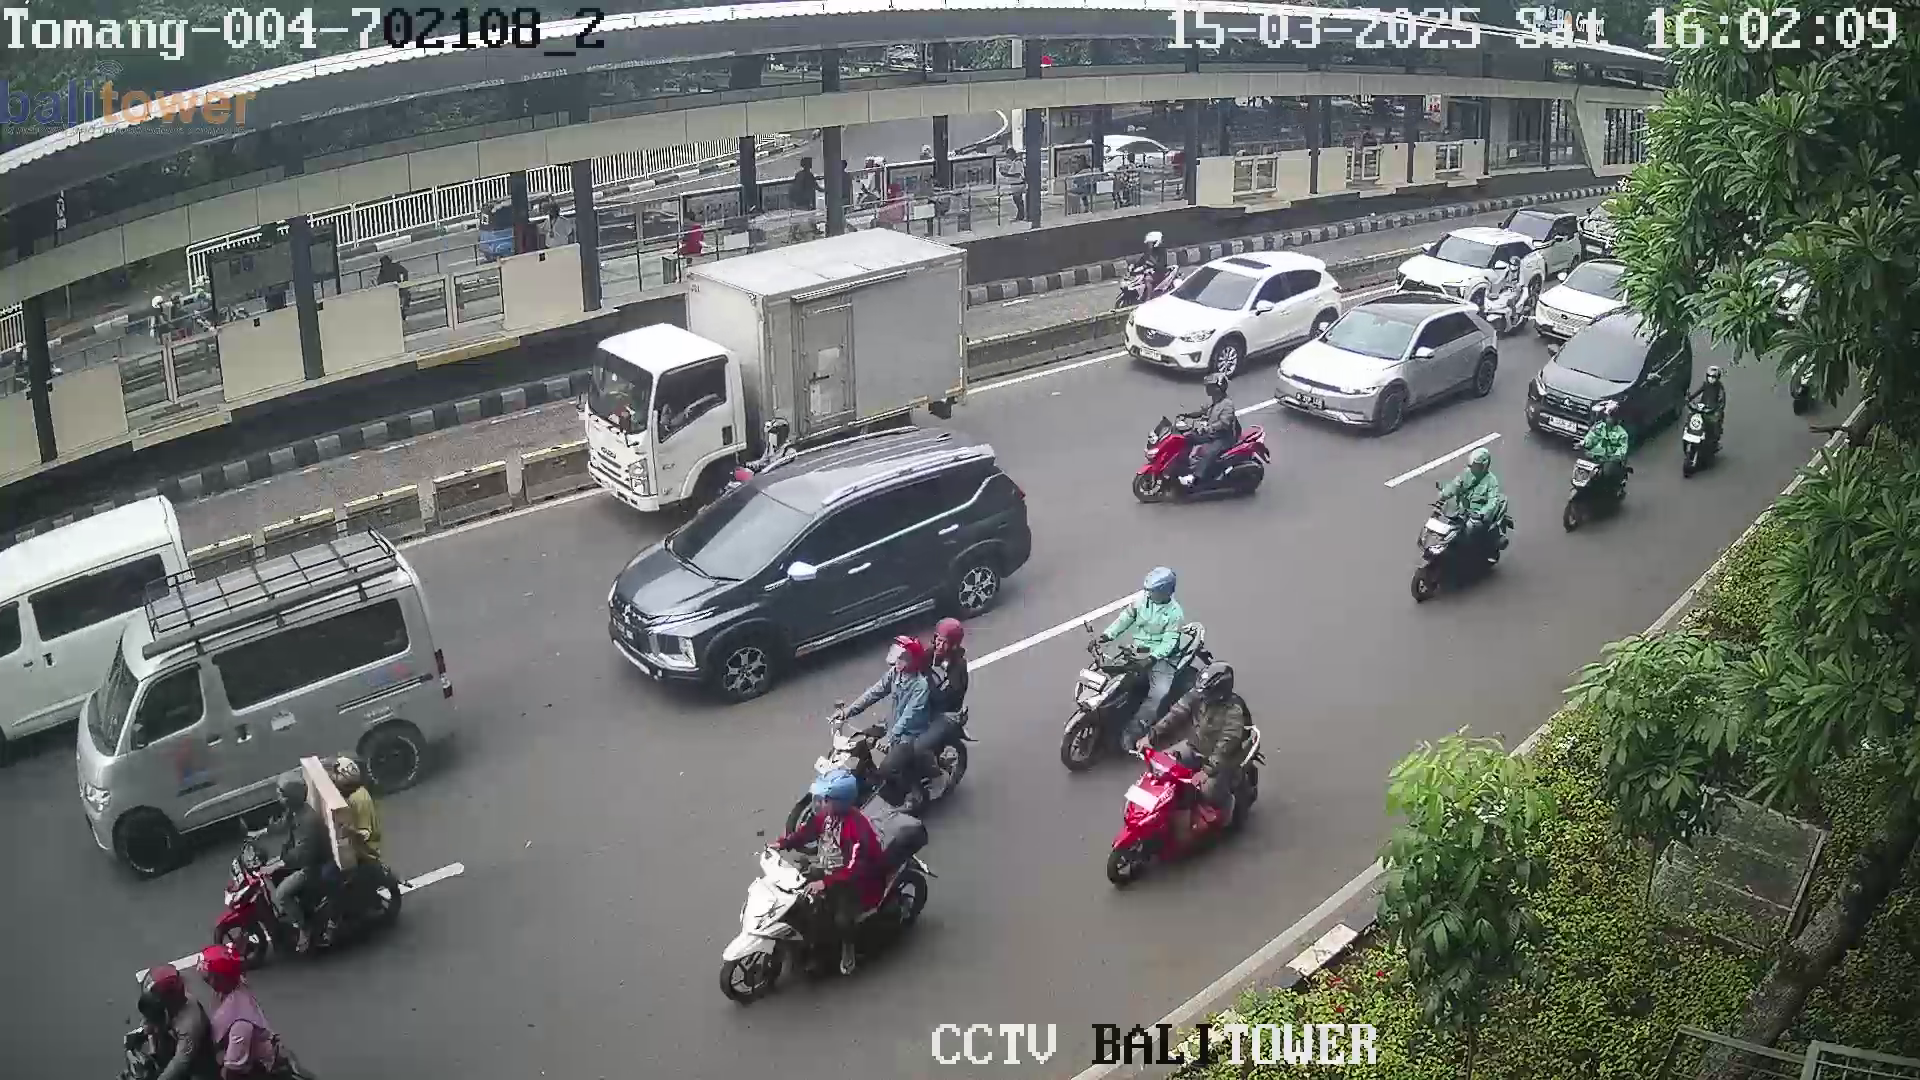half-face helmet: (796, 759, 872, 839), (1190, 661, 1255, 724), (125, 965, 184, 1026), (196, 947, 261, 1000), (1141, 565, 1192, 624), (268, 773, 314, 822), (935, 620, 978, 671), (1202, 367, 1241, 424), (323, 747, 372, 790), (884, 633, 925, 684), (1590, 394, 1629, 435), (1466, 443, 1494, 488), (1702, 365, 1731, 390)
